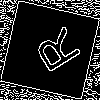R: (25, 25, 83, 81)
